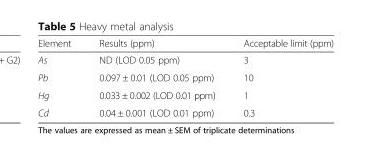table: (37, 37, 332, 118)
table column: (84, 37, 228, 118), (228, 37, 332, 118), (37, 37, 84, 118)
table column header: (37, 37, 332, 51)
table row: (37, 85, 332, 103), (37, 51, 332, 68), (37, 68, 332, 85), (37, 103, 332, 118), (37, 37, 332, 51)
